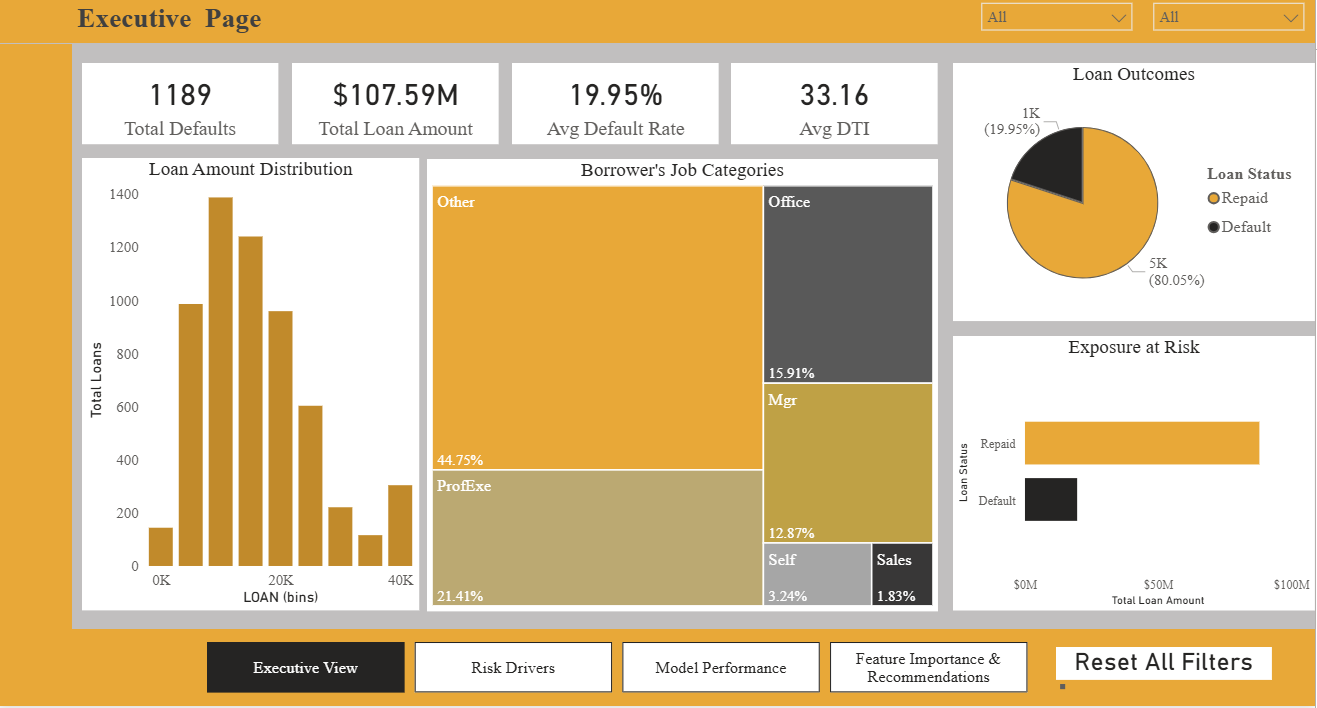

The page's visual inventory and layout, read from the dashboard file:
{"tool":"powerbi","page":{"name":"Executive View","canvas":[1280,720],"ordinal":0},"visuals":[{"type":"card","fields":{"Values":["Measures_.Avg Default Rate"]},"box":[499,94.3,201.3,78.8],"z":0},{"type":"shape","box":[0,0,1280,74.9],"z":1000},{"type":"card","fields":{"Values":["Measures_.Avg DTI"]},"box":[712,94.3,201.3,78.8],"z":2000},{"type":"card","fields":{"Values":["Measures_.Total Loan Amount"]},"box":[285,94.3,201.3,78.8],"z":3000},{"type":"card","fields":{"Values":["Measures_.Total Defaults"]},"box":[81.2,94.7,190.6,78.9],"z":4000},{"type":"shape","box":[0,75.9,71,643.9],"z":5000},{"type":"pieChart","title":"Loan Outcomes","fields":{"Y":["Measures_.Total Loans"],"Category":["hmeq_clean.Loan Status"]},"box":[927.9,94.3,352.1,250.9],"z":6000},{"type":"clusteredBarChart","title":"Exposure at Risk","fields":{"Y":["Measures_.Total Loan Amount"],"Category":["hmeq_clean.Loan Status"]},"box":[927.9,359.9,352.1,267.5],"z":7000},{"type":"shape","box":[0,644.9,1280,74.9],"z":8000},{"type":"treemap","title":"Borrower''s Job Categories","fields":{"Group":["hmeq_clean.JOB"],"Values":["CountNonNull(hmeq_clean.Loan Status)"]},"box":[416.3,187.7,497,439.6],"z":9000},{"type":"textbox","box":[71,30.2,201.3,45.7],"z":10000},{"type":"clusteredColumnChart","title":"Loan Amount Distribution","fields":{"Category":["hmeq_clean.LOAN (bins)"],"Y":["Measures_.Total Loans"]},"box":[81.2,187.2,328.2,439.8],"z":11000},{"type":"slicer","fields":{"Values":["hmeq_clean.REASON"]},"box":[1112.7,8.8,167.3,57.4],"z":12000},{"type":"pageNavigator","box":[202.3,657.5,800.5,49.6],"z":13000},{"type":"slicer","fields":{"Values":["hmeq_clean.DTI Band"]},"box":[945.4,8.8,167.3,57.4],"z":14000},{"type":"actionButton","title":"Reset All Filters","box":[1028.5,662,209.8,45.1],"z":14001}]}

Visuals, with their boxes on the page's 1280x720 design canvas (x1, y1, x2, y2). These are canvas units, not pixel positions in the 1317x708 screenshot, which may show the page scaled, cropped or inside an application window:
card - Measures_.Avg Default Rate: {"left": 499, "top": 94, "right": 700, "bottom": 173}
shape: {"left": 0, "top": 0, "right": 1280, "bottom": 75}
card - Measures_.Avg DTI: {"left": 712, "top": 94, "right": 913, "bottom": 173}
card - Measures_.Total Loan Amount: {"left": 285, "top": 94, "right": 486, "bottom": 173}
card - Measures_.Total Defaults: {"left": 81, "top": 95, "right": 272, "bottom": 174}
shape: {"left": 0, "top": 76, "right": 71, "bottom": 720}
"Loan Outcomes" pieChart: {"left": 928, "top": 94, "right": 1280, "bottom": 345}
"Exposure at Risk" clusteredBarChart: {"left": 928, "top": 360, "right": 1280, "bottom": 627}
shape: {"left": 0, "top": 645, "right": 1280, "bottom": 720}
"Borrower''s Job Categories" treemap: {"left": 416, "top": 188, "right": 913, "bottom": 627}
textbox: {"left": 71, "top": 30, "right": 272, "bottom": 76}
"Loan Amount Distribution" clusteredColumnChart: {"left": 81, "top": 187, "right": 409, "bottom": 627}
slicer - hmeq_clean.REASON: {"left": 1113, "top": 9, "right": 1280, "bottom": 66}
pageNavigator: {"left": 202, "top": 658, "right": 1003, "bottom": 707}
slicer - hmeq_clean.DTI Band: {"left": 945, "top": 9, "right": 1113, "bottom": 66}
"Reset All Filters" actionButton: {"left": 1028, "top": 662, "right": 1238, "bottom": 707}
